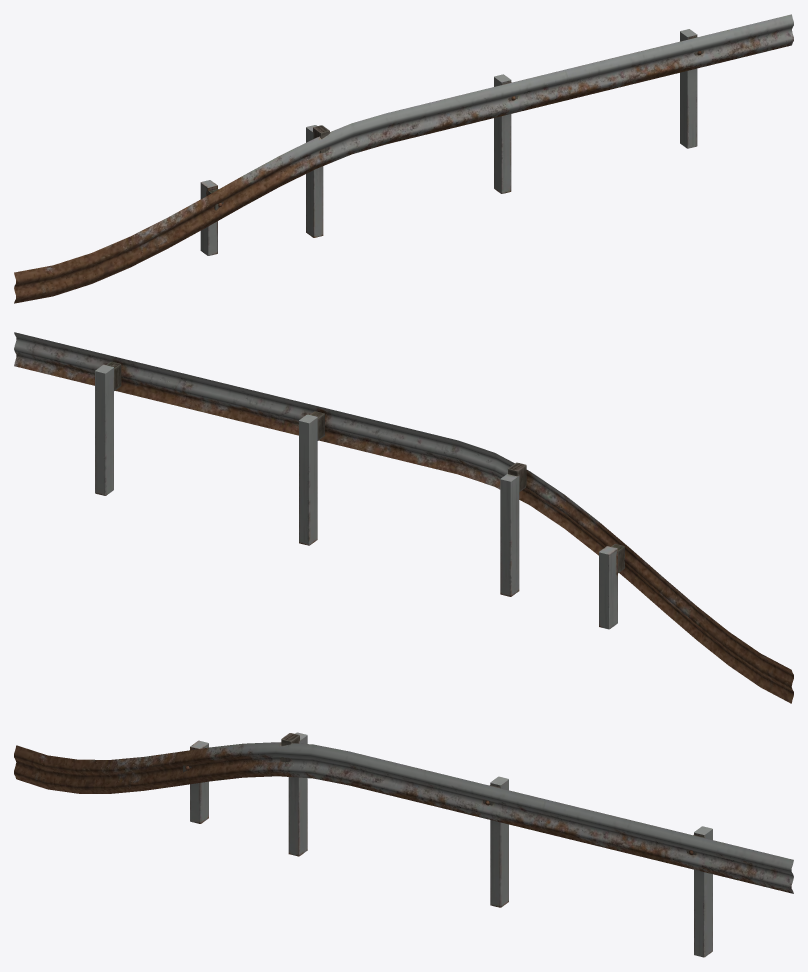
The model's file is guardrail_endr.glb.
3 renders of one model, top to bottom at view 1: azimuth 30°, elevation 25°; view 2: azimuth 150°, elevation 25°; view 3: azimuth 330°, elevation 25°, orthographic. The views are drawn at different scales.
Parts seen in each view (by area): view 1: guardrail_endr; view 2: guardrail_endr; view 3: guardrail_endr.
Part boxes in pixels (bbox=[...]): guardrail_endr: bbox=[14, 14, 793, 303]; guardrail_endr: bbox=[14, 332, 793, 703]; guardrail_endr: bbox=[14, 732, 793, 957].
Size of the model in its own units: 7.8 by 1.33 by 0.6615.
1 material, 1 textured.
